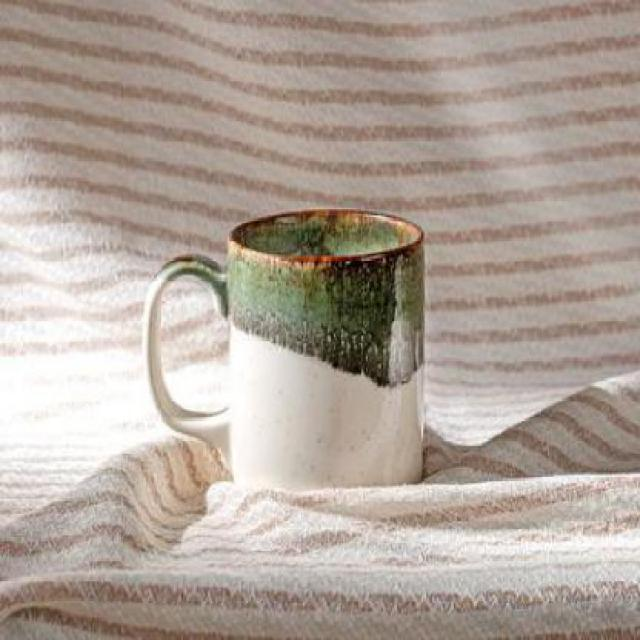taza: (142, 206, 427, 512)
